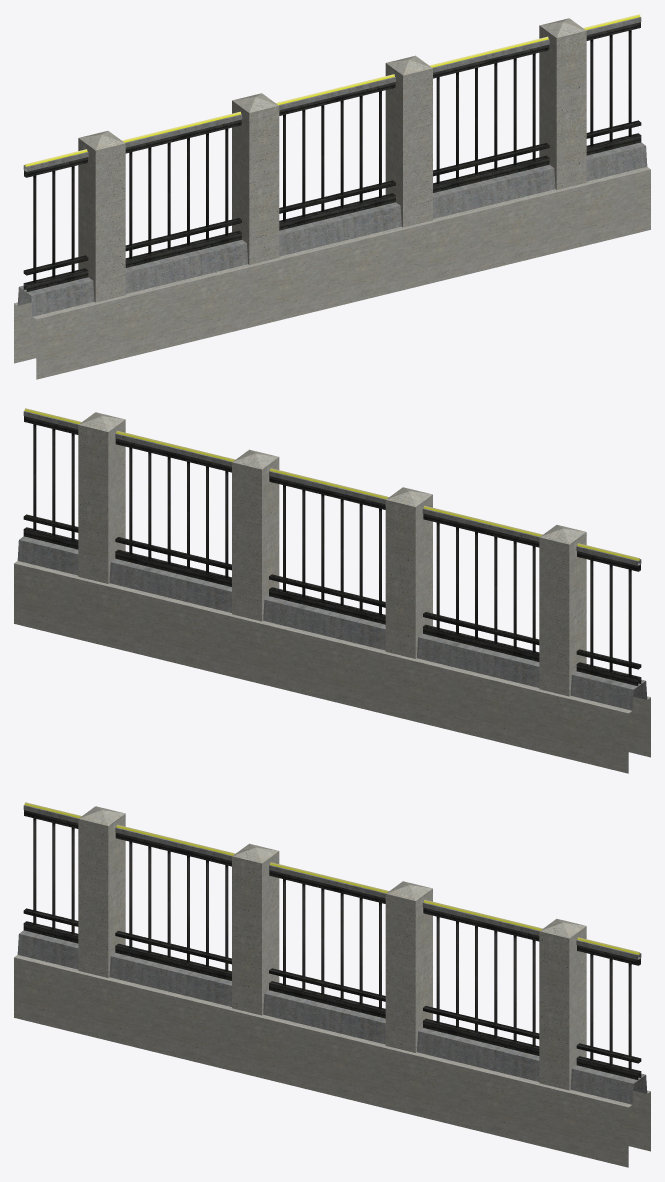
Rendered from thm_corl_imprv_wall_4x16_s02_l0.fbx.
The picture shows the model from 3 angles, top to bottom: view 1: azimuth 30°, elevation 25°; view 2: azimuth 150°, elevation 25°; view 3: azimuth 330°, elevation 25°; orthographic projection.
Visible parts, largest first — view 1: mesh_node; view 2: mesh_node; view 3: mesh_node.
Part boxes in pixels (left/top/right/bottom): mesh_node: left=14, top=14, right=650, bottom=379; mesh_node: left=14, top=408, right=650, bottom=773; mesh_node: left=14, top=802, right=650, bottom=1167.
Bounding box in the file's own units: 16 × 5.43 × 1.
